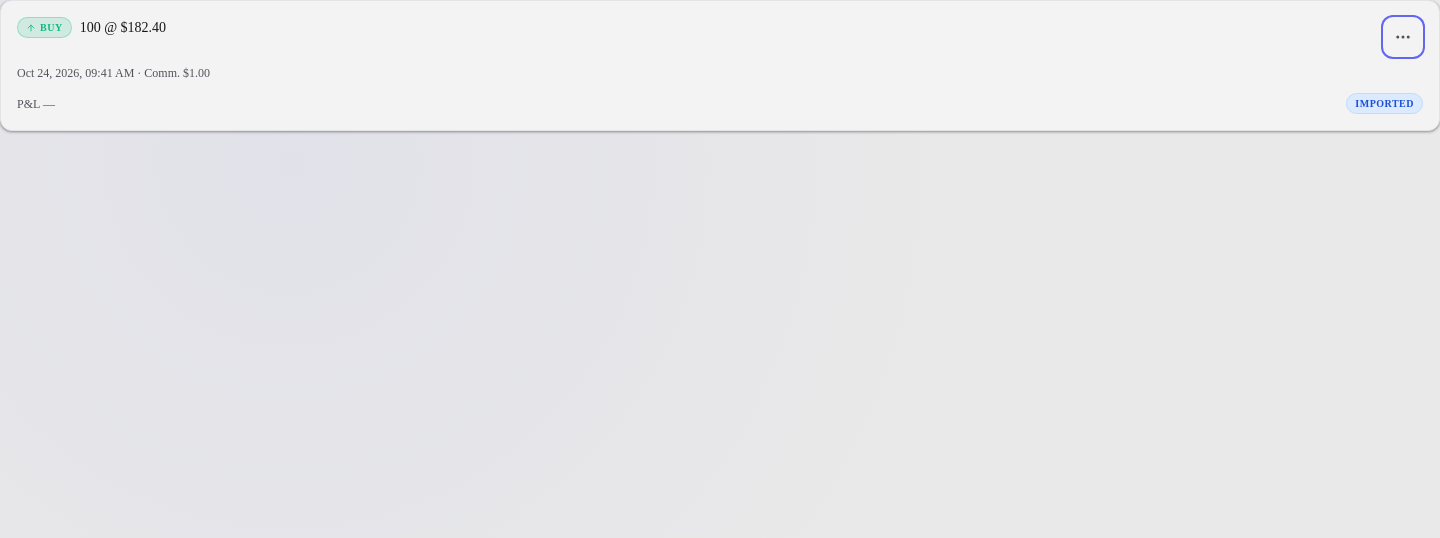
Test: ExecutionLegCard editing › disables form controls and announces the saving state while pending
This screenshot has width=1440, height=538.
Press Enter
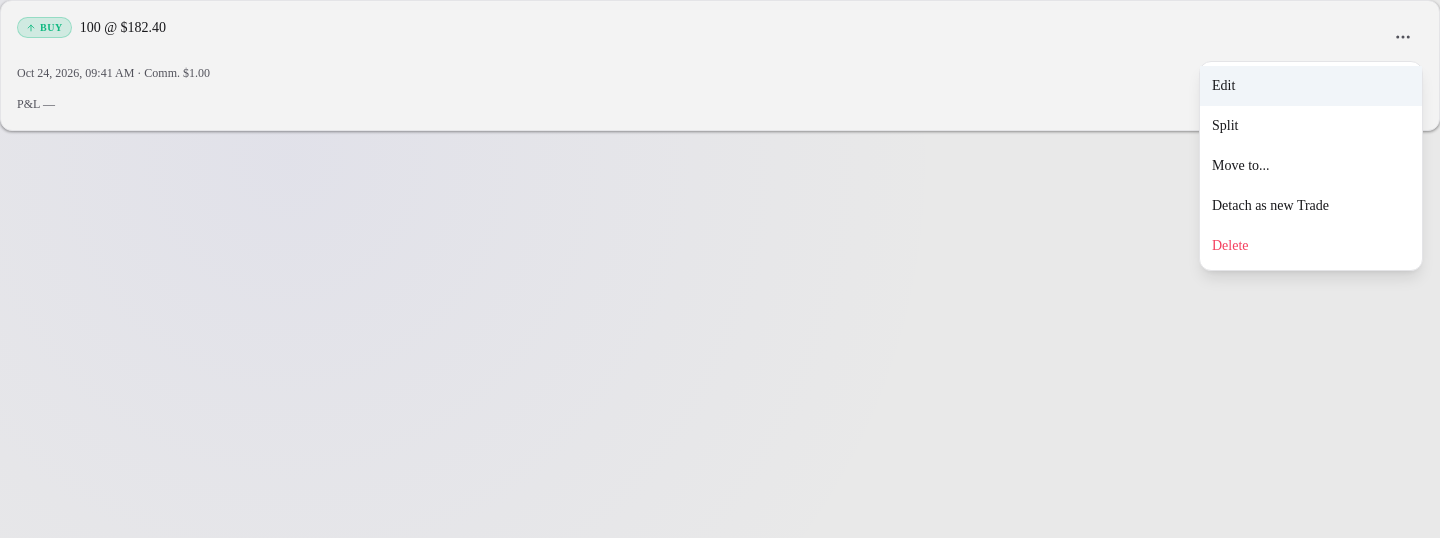
Click the menu item "Edit".
click(1311, 86)  # box [1200,66,1422,106]
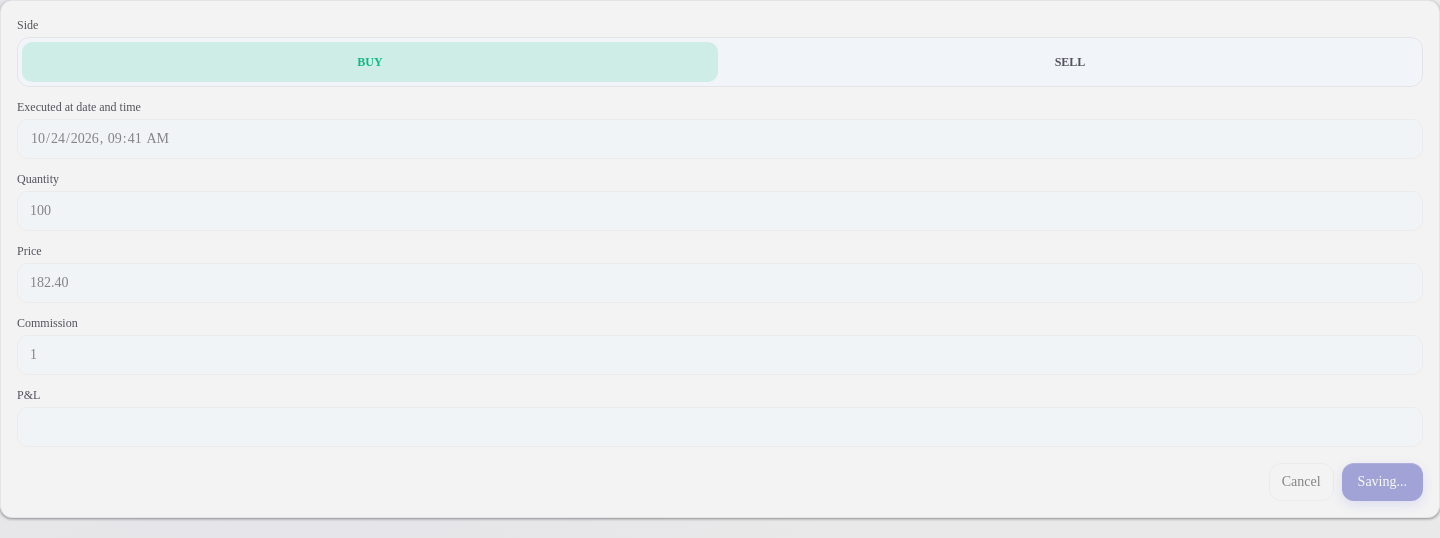
Check: the button "Saving..." is disabled, box [1342,463,1423,501]
Check: the button "Cancel" is disabled, box [1269,463,1334,501]
Check: the button with aria-label "Set direction to SHORT" is disabled, box [722,42,1418,82]
